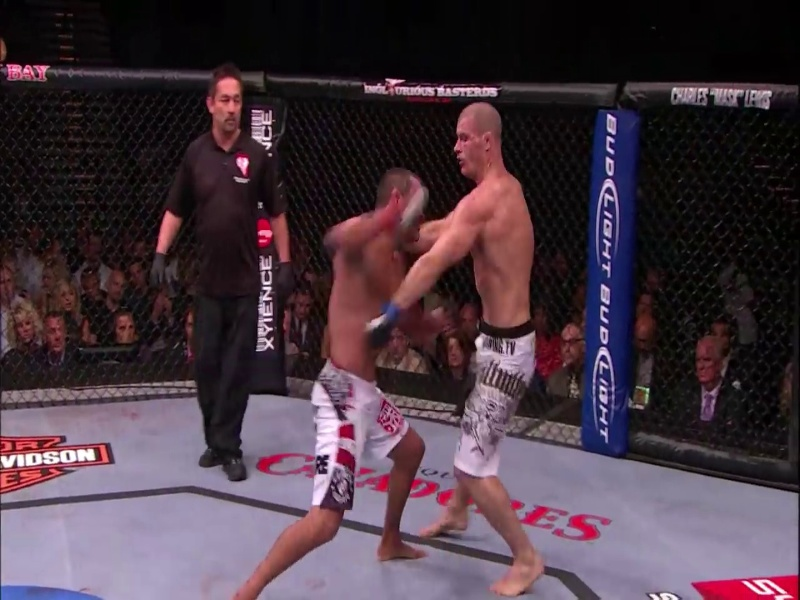fighter: (221, 163, 529, 593), (351, 91, 548, 600)
